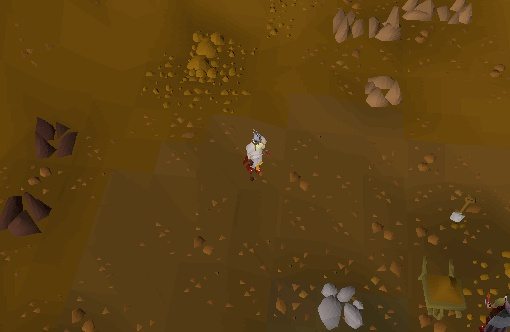copper: (359, 68, 417, 114), (324, 4, 371, 50)
iron: (1, 189, 56, 245), (28, 110, 83, 164)
